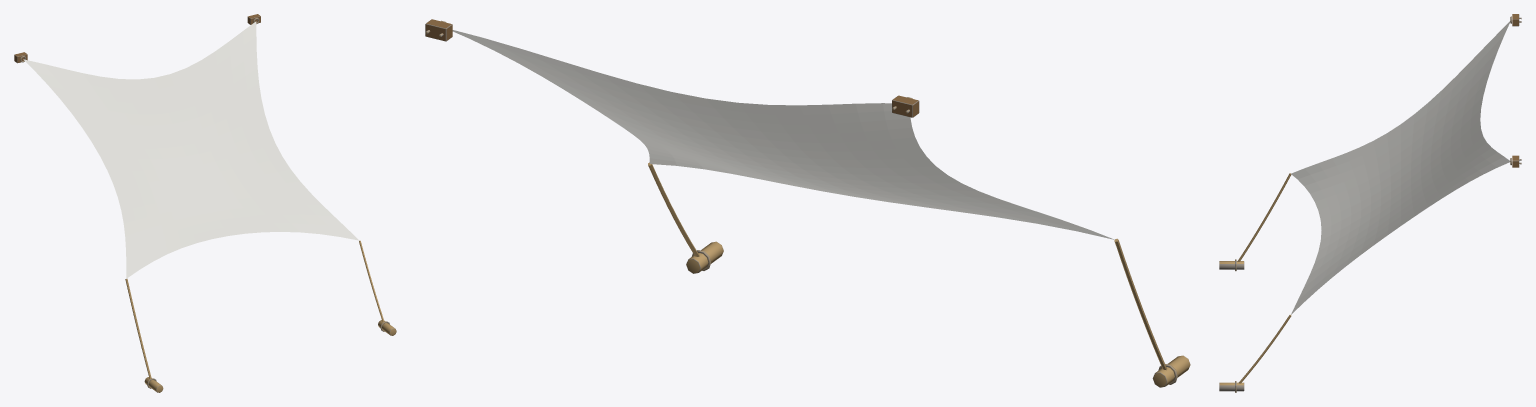
Rendered from nomad_sail_wall_lean.fbx.
3 renders of one model, left to right at view 1: azimuth 30°, elevation 25°; view 2: azimuth 150°, elevation 25°; view 3: azimuth 270°, elevation 25°, orthographic. The views are drawn at different scales.
Parts seen in each view (by area): view 1: S12_Canopy; view 2: S12_Canopy, S12_Anchor1_SailRig_AnchorLog, S12_Anchor_SailRig_AnchorLog, S12_Tie1; view 3: S12_Canopy, S12_Tie1.
Boxes of the visible parts, x1,y1,x2,y2 form: S12_Canopy: [23, 21, 358, 278]; S12_Canopy: [452, 30, 1114, 239]; S12_Anchor1_SailRig_AnchorLog: [1152, 355, 1190, 387]; S12_Anchor_SailRig_AnchorLog: [686, 241, 723, 273]; S12_Tie1: [1114, 238, 1166, 369]; S12_Canopy: [1291, 21, 1510, 314]; S12_Tie1: [1237, 173, 1291, 261].
Bounding box in the file's own units: 408 × 380 × 410.
